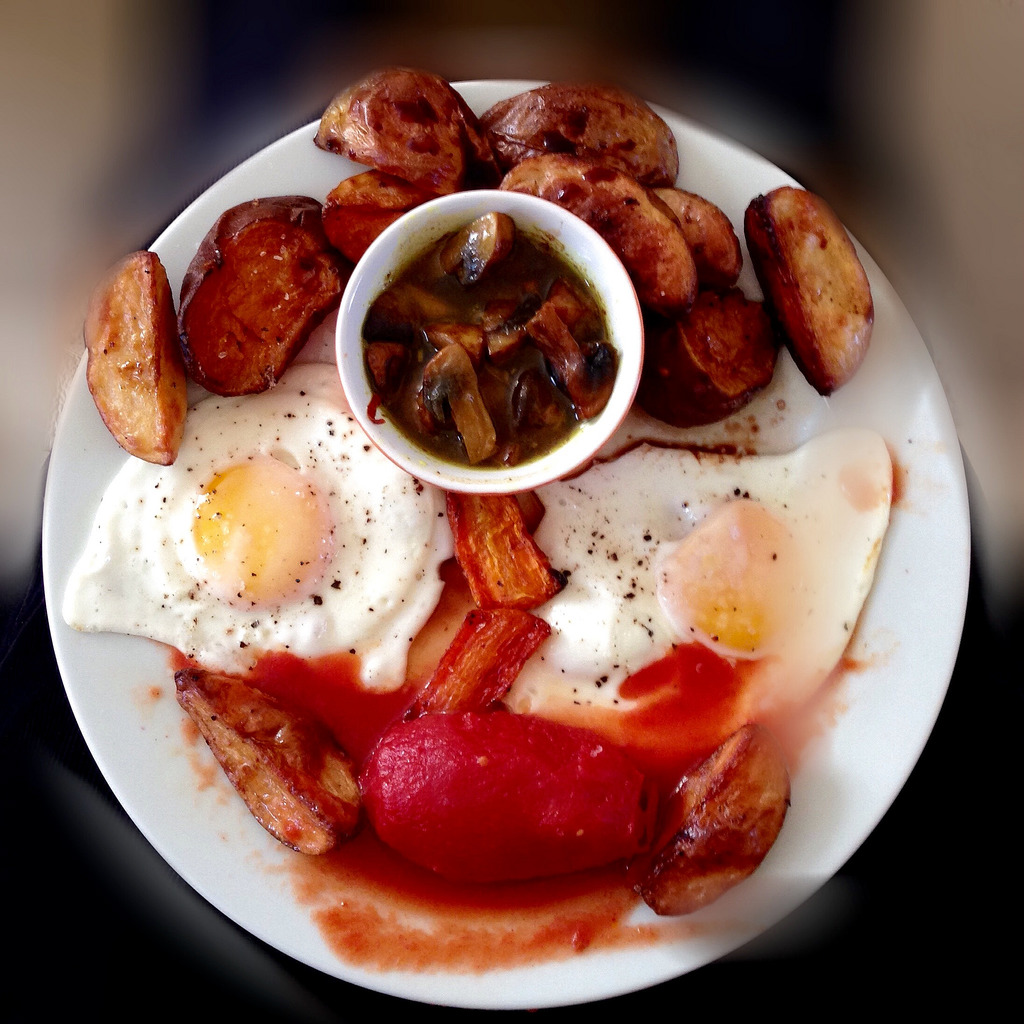boiled potatoes: (566, 100, 885, 405)
fried egg: (98, 393, 439, 679), (550, 447, 867, 706)
